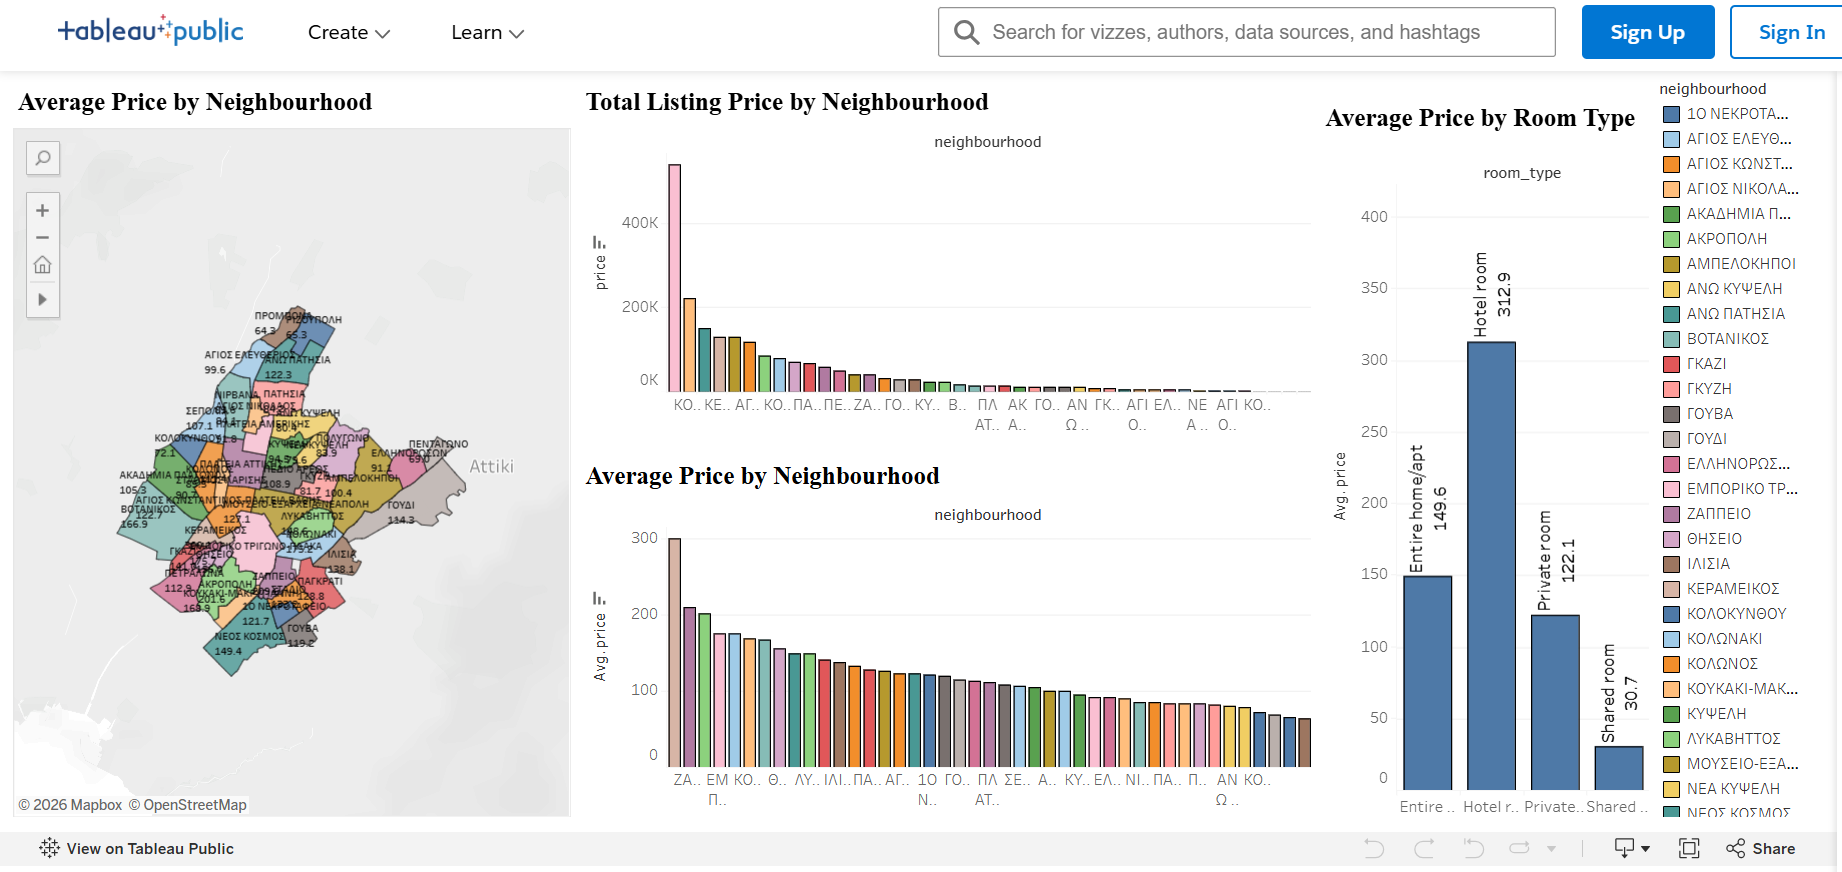

What the dashboard file says about the page in this screenshot:
{"tool":"tableau","page":{"name":"Dashboard 1","canvas":[1000,1000],"units":"permille","ordinal":0},"visuals":[{"type":"worksheet","title":"Sheet 4","mark":"Automatic","box":[4.8,9.4,309.2,981.2]},{"type":"worksheet","title":"Sheet 2","mark":"Automatic","rows":["price"],"cols":["neighbourhood"],"box":[314.1,9.4,402.9,490.6]},{"type":"worksheet","title":"Sheet 6","mark":"Automatic","rows":["price"],"cols":["room_type"],"box":[717,9.4,184.5,981.2]},{"type":"legend","title":"Sheet 1","param":"[federated.0wqdkhv1muincw18zkw5t1ds99zp].[none:neighbourhood:nk]","box":[901.5,9.4,93.7,981.2]},{"type":"worksheet","title":"Sheet 1","mark":"Automatic","rows":["price"],"cols":["neighbourhood"],"box":[314.1,500,402.9,490.6]}]}

Visuals, with their boxes on the dashboard's canvas, which has no fixed pixel size, in thousandths of its width and height (x1, y1, x2, y2). These are canvas units, not pixel positions in the 1842x872 screenshot, which may show the page scaled, cropped or inside an application window:
"Sheet 4" worksheet: l=5, t=9, r=314, b=991
"Sheet 2" worksheet: l=314, t=9, r=717, b=500
"Sheet 6" worksheet: l=717, t=9, r=902, b=991
"Sheet 1" legend: l=902, t=9, r=995, b=991
"Sheet 1" worksheet: l=314, t=500, r=717, b=991
